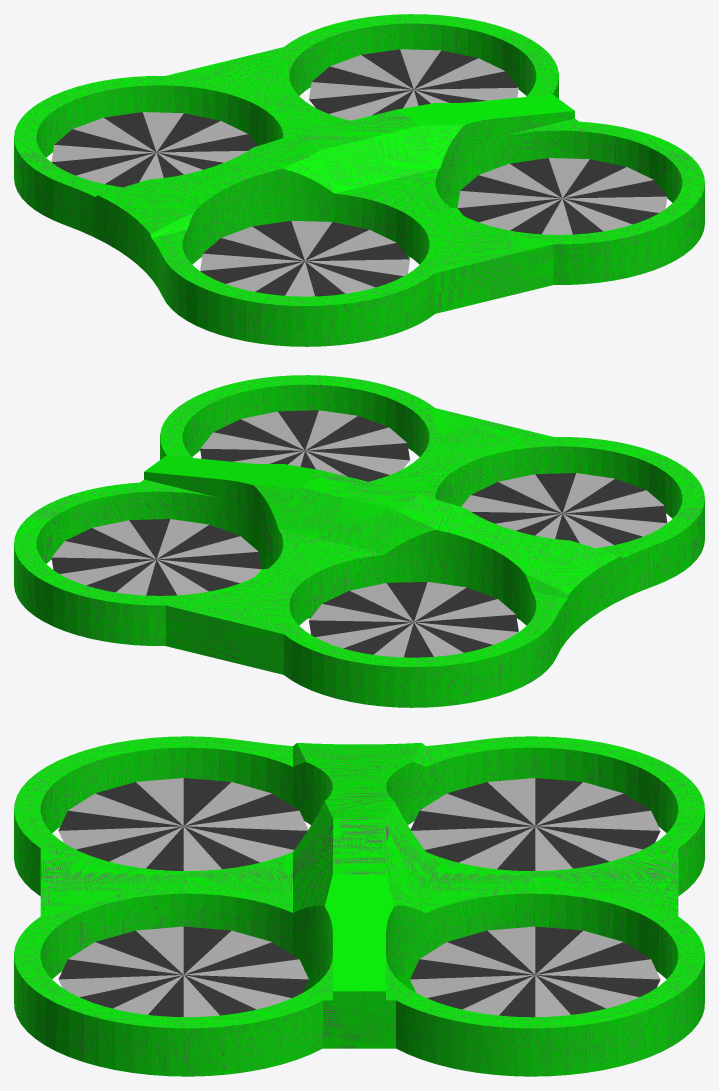
Rendered from green_quadrotor.dae.
3 renders of one model, top to bottom at view 1: azimuth 30°, elevation 25°; view 2: azimuth 150°, elevation 25°; view 3: azimuth 270°, elevation 25°, orthographic. The views are drawn at different scales.
Visible parts, largest first — view 1: instance_0_033, instance_0, instance_0_055, instance_0_039, instance_0_046, instance_0_051, instance_0_058, instance_0_006, instance_0_042, instance_0_013, instance_0_002, instance_0_009 (+45 smaller); view 2: instance_0_033, instance_0, instance_0_030, instance_0_014, instance_0_005, instance_0_026, instance_0_017, instance_0_047, instance_0_001, instance_0_038, instance_0_034, instance_0_043 (+45 smaller); view 3: instance_0_033, instance_0, instance_0_011, instance_0_036, instance_0_031, instance_0_056, instance_0_004, instance_0_045, instance_0_024, instance_0_065, instance_0_015, instance_0_027 (+54 smaller).
Boxes of the visible parts, x1=… form: instance_0_033: x1=14, y1=14, x2=704, y2=346; instance_0: x1=397, y1=94, x2=574, y2=125; instance_0_055: x1=306, y1=259, x2=409, y2=276; instance_0_039: x1=309, y1=82, x2=412, y2=99; instance_0_046: x1=457, y1=190, x2=561, y2=208; instance_0_051: x1=200, y1=253, x2=302, y2=270; instance_0_058: x1=51, y1=145, x2=155, y2=162; instance_0_006: x1=309, y1=89, x2=413, y2=113; instance_0_042: x1=562, y1=196, x2=667, y2=212; instance_0_013: x1=458, y1=198, x2=560, y2=222; instance_0_002: x1=415, y1=71, x2=518, y2=89; instance_0_009: x1=564, y1=180, x2=667, y2=198; instance_0_033: x1=14, y1=375, x2=704, y2=707; instance_0: x1=144, y1=455, x2=321, y2=486; instance_0_030: x1=309, y1=620, x2=412, y2=637; instance_0_014: x1=306, y1=443, x2=409, y2=460; instance_0_005: x1=157, y1=551, x2=261, y2=569; instance_0_026: x1=416, y1=614, x2=518, y2=631; instance_0_017: x1=563, y1=506, x2=667, y2=523; instance_0_047: x1=305, y1=450, x2=409, y2=474; instance_0_001: x1=51, y1=557, x2=156, y2=573; instance_0_038: x1=158, y1=559, x2=260, y2=583; instance_0_034: x1=51, y1=541, x2=154, y2=559; instance_0_043: x1=200, y1=432, x2=303, y2=450; instance_0_033: x1=14, y1=736, x2=704, y2=1076; instance_0: x1=325, y1=874, x2=393, y2=991; instance_0_011: x1=185, y1=975, x2=308, y2=997; instance_0_036: x1=410, y1=975, x2=533, y2=997; instance_0_031: x1=536, y1=826, x2=660, y2=849; instance_0_056: x1=58, y1=826, x2=182, y2=849; instance_0_004: x1=410, y1=959, x2=534, y2=979; instance_0_045: x1=184, y1=959, x2=308, y2=979; instance_0_024: x1=58, y1=810, x2=182, y2=830; instance_0_065: x1=536, y1=810, x2=660, y2=830; instance_0_015: x1=59, y1=959, x2=182, y2=979; instance_0_027: x1=410, y1=810, x2=533, y2=830.
Bounding box in the file's own units: 0.52 × 0.5199 × 0.11.
